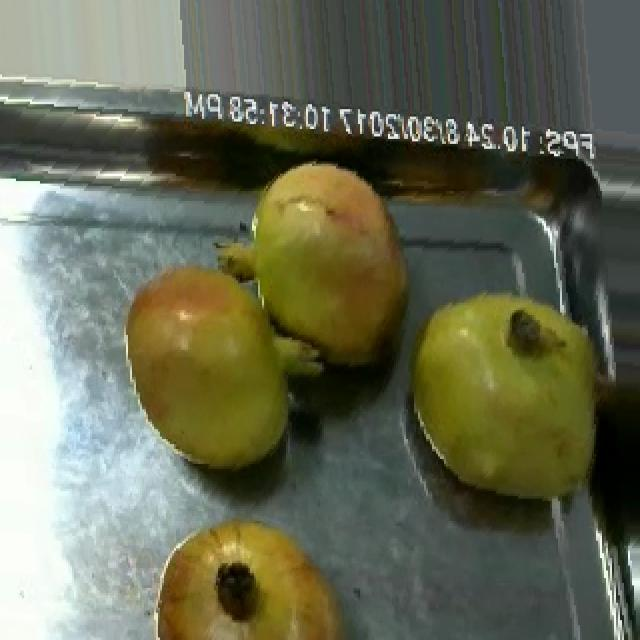fruit: (380, 263, 628, 526), (196, 149, 434, 402), (96, 223, 316, 496), (136, 496, 364, 640)
